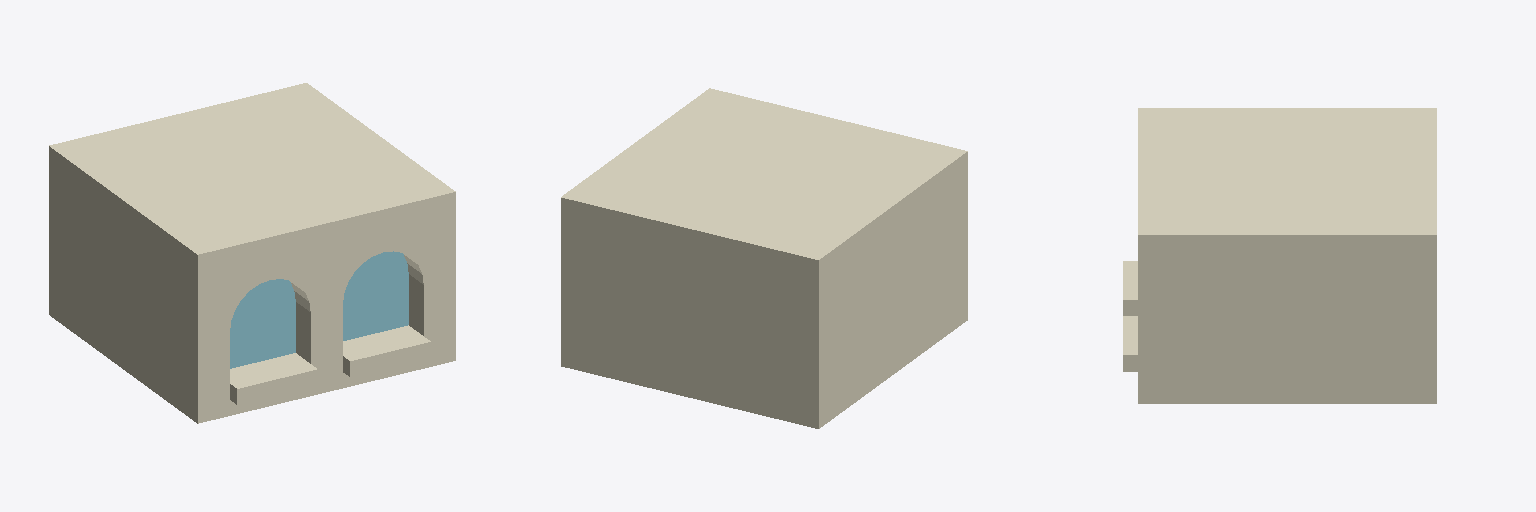
Rendered from houseFloor3.obj.
3 views of the same model, side by side, from view 1: azimuth 30°, elevation 25°; view 2: azimuth 150°, elevation 25°; view 3: azimuth 270°, elevation 25° (orthographic).
Parts seen in each view (by area): view 1: Mesh1_Group1_Model.012; view 2: Mesh1_Group1_Model.012; view 3: Mesh1_Group1_Model.012.
Boxes of the visible parts, box(x1,y1,x2,y2) form: Mesh1_Group1_Model.012: box(49, 83, 455, 423); Mesh1_Group1_Model.012: box(561, 88, 967, 428); Mesh1_Group1_Model.012: box(1123, 108, 1436, 403).
Size of the model in its own units: 1 by 0.625 by 1.05.